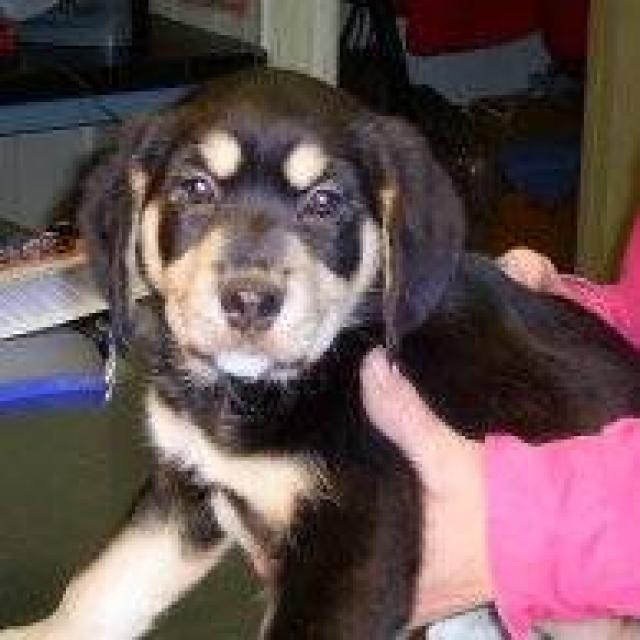dog: (0, 64, 637, 636)
